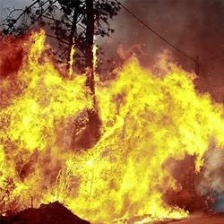fire: (1, 27, 224, 222)
